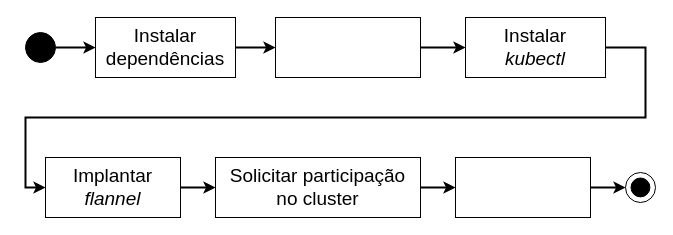
Image size: 673x235. Some labels were removed from this diagram. The shapes that lost their labels are listed below. From the top down, each one's box as (x1, y1, x2, y2) in pixels, then its label:
(274, 16, 420, 78): Inicializar nó mestre
(454, 156, 590, 218): Rotular nós
